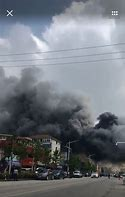smoke: (1, 68, 122, 160)
